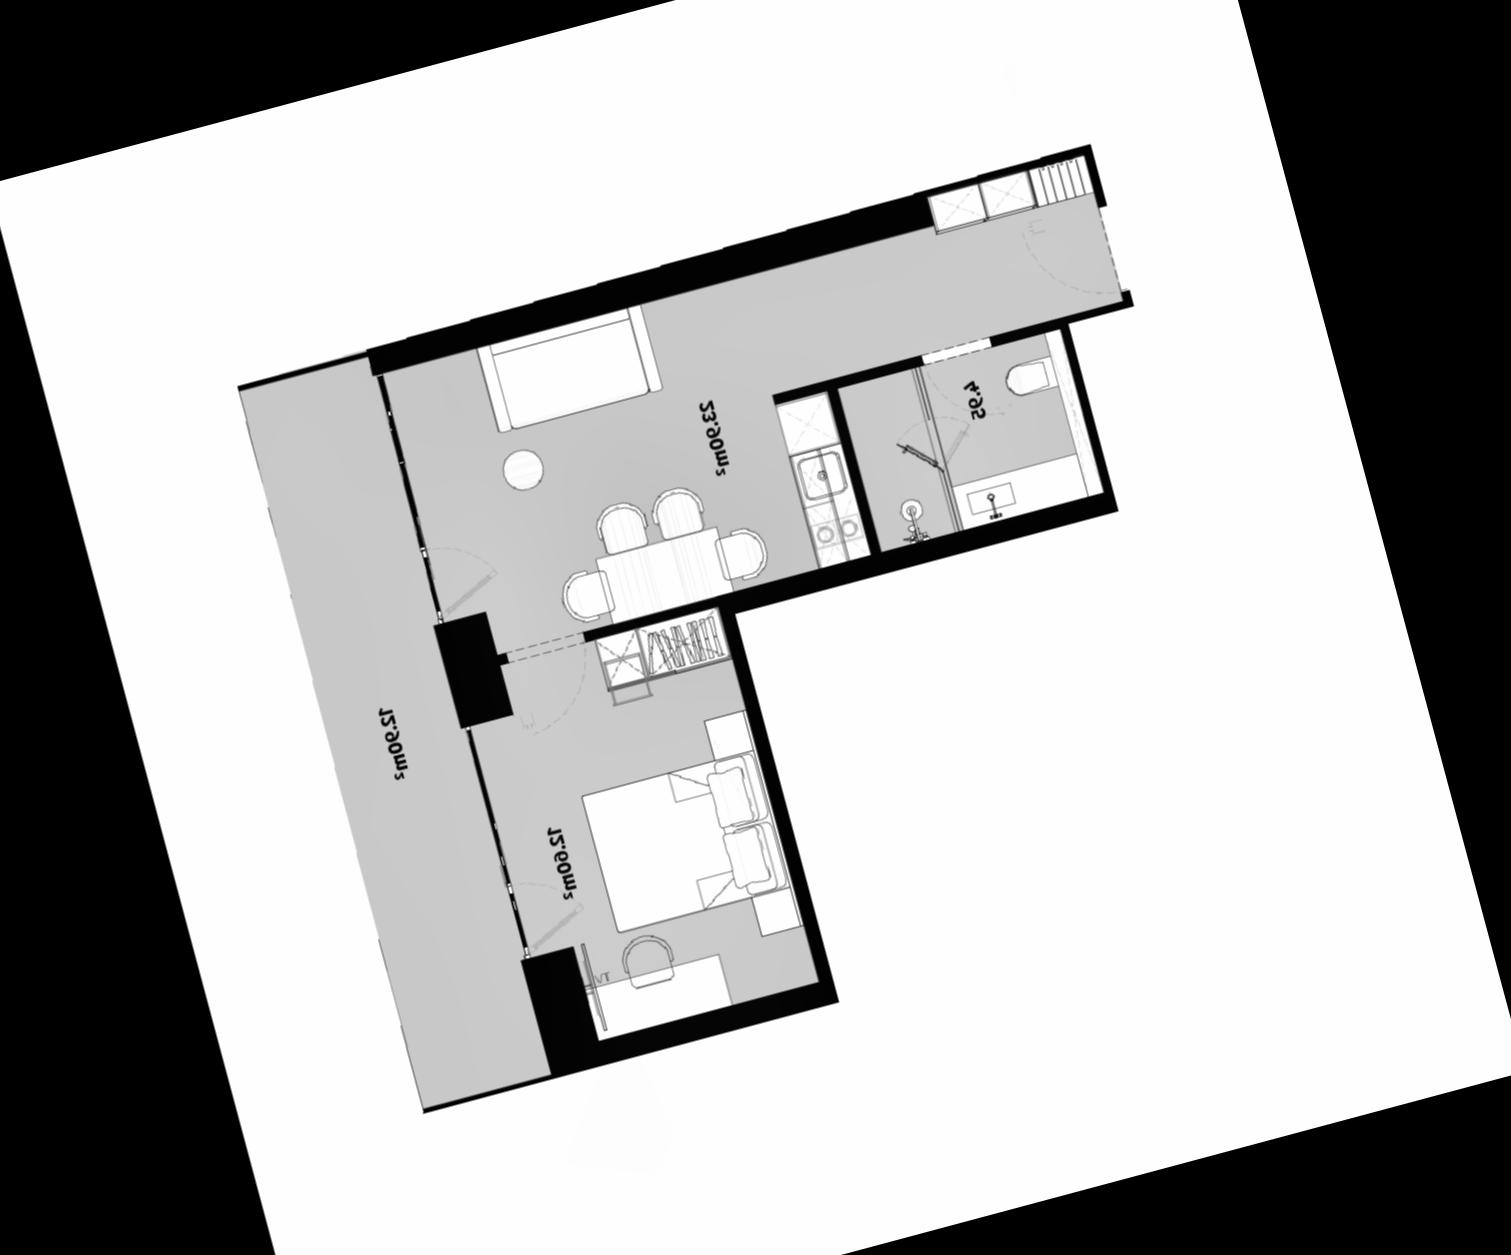door: (1010, 195, 1140, 318), (497, 625, 610, 745), (912, 329, 1015, 437), (408, 522, 507, 626), (494, 862, 594, 960), (884, 413, 942, 486)
